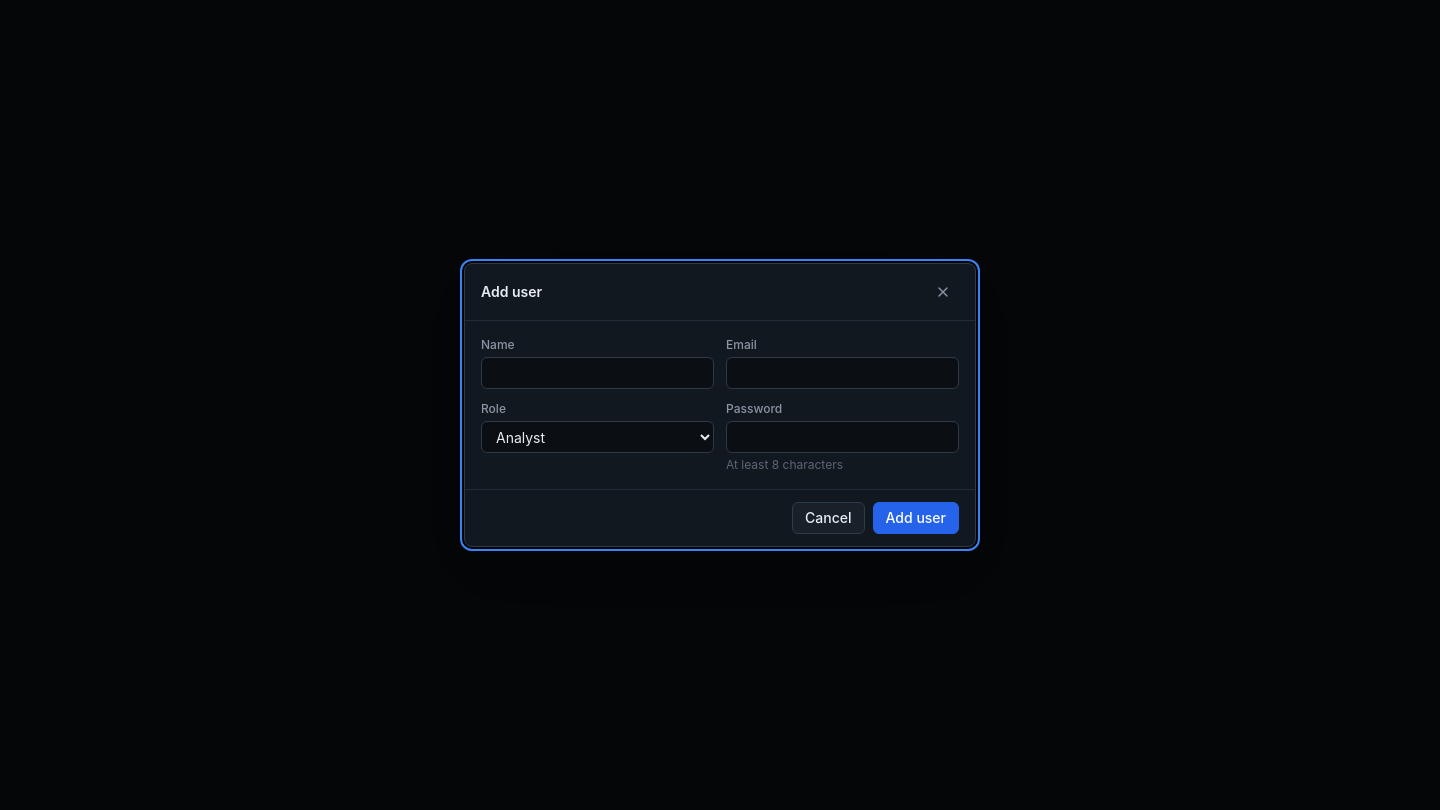
Test: UserFormModal › validates name, email and password locally
The image size is (1440, 810).
Type "not-an-email" into the field labelled "Email" at [842, 373], box [726, 357, 959, 389]
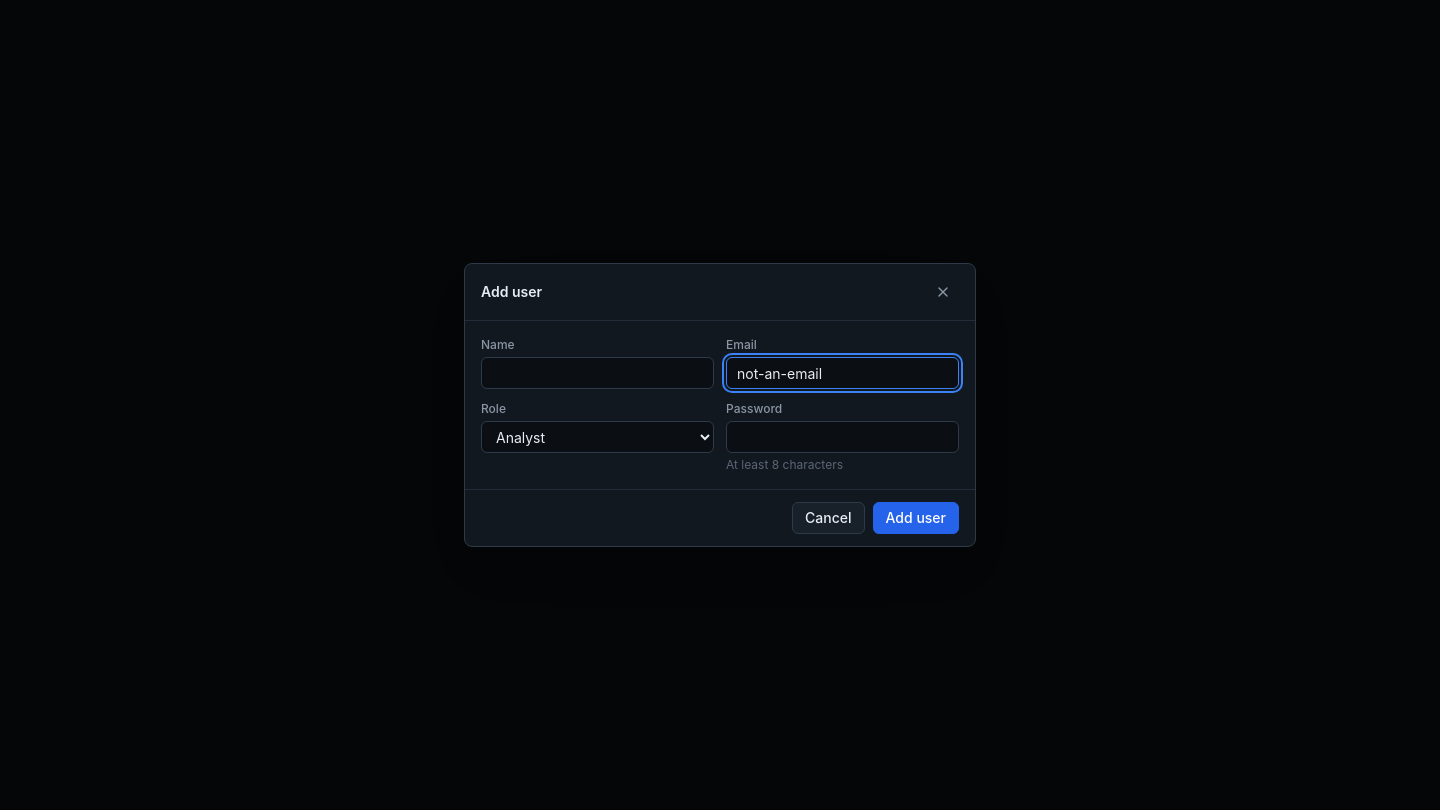
Type "short" into the password field labelled "Password" at [842, 437], box [726, 421, 959, 453]
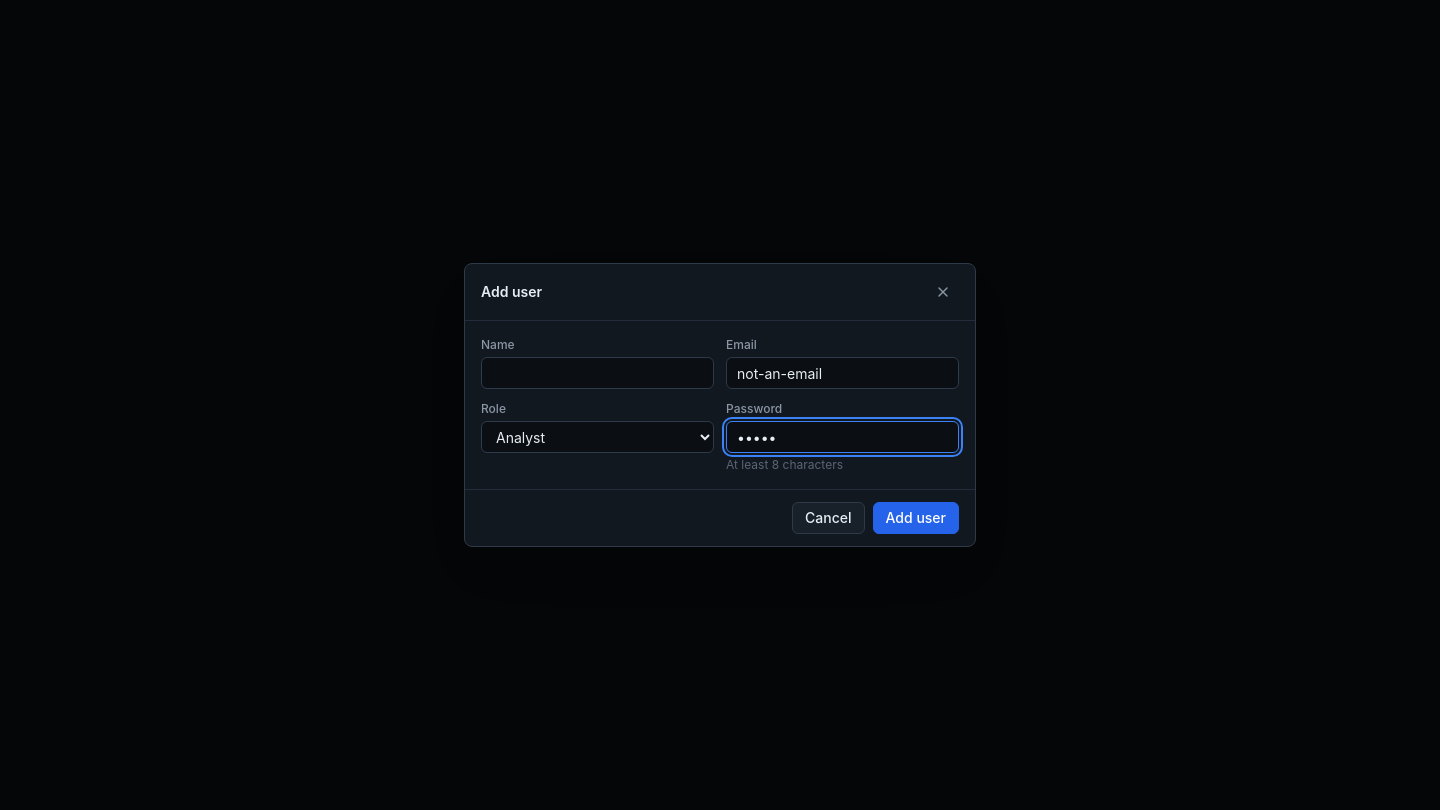
Click the button "Add user" at [916, 518], box [872, 502, 959, 534]
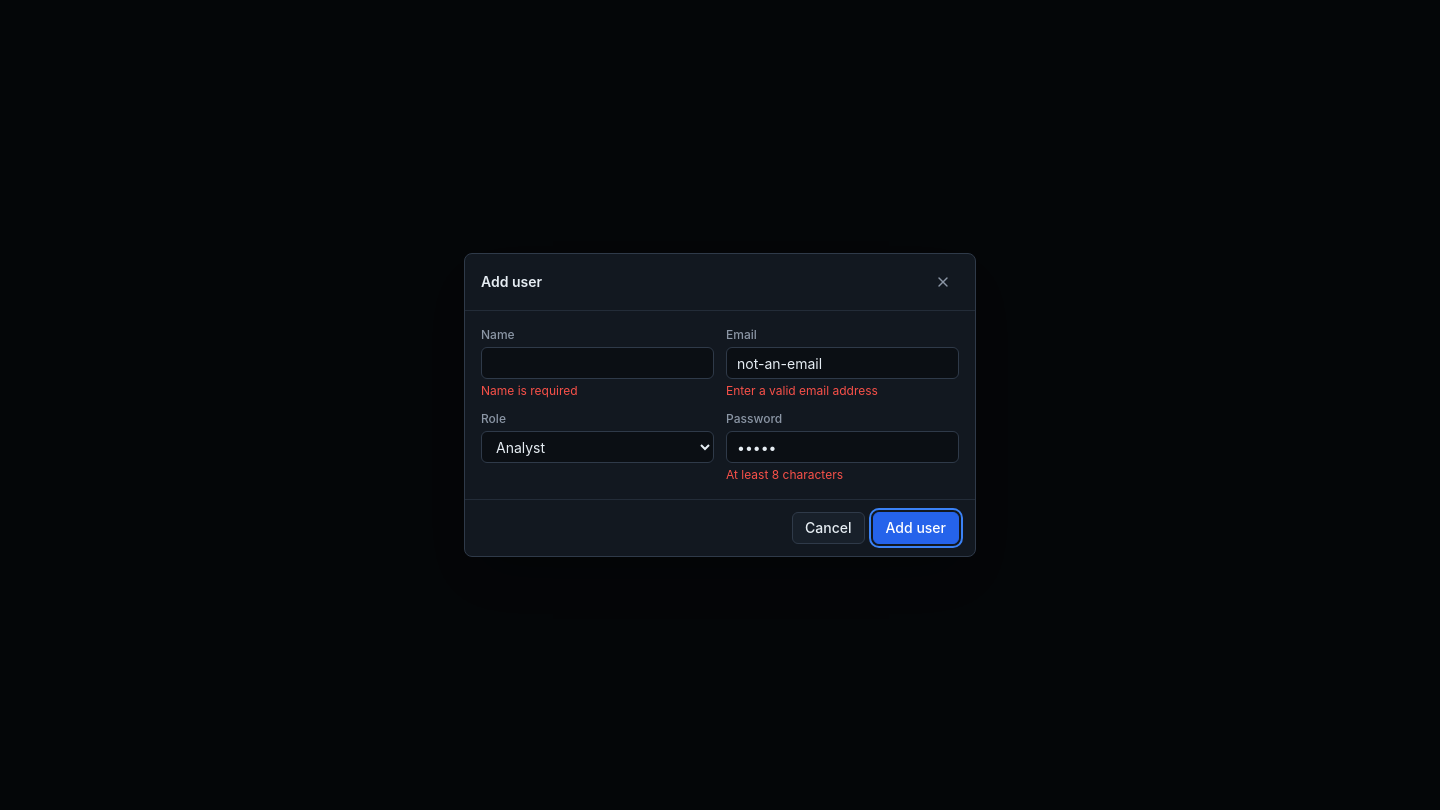
Expected: the text "At least 8 characters" is shown, [726, 467, 843, 482]
Expected: the text "Name is required" is shown, [481, 383, 578, 398]
Expected: the text "Enter a valid email address" is shown, [726, 383, 878, 398]
